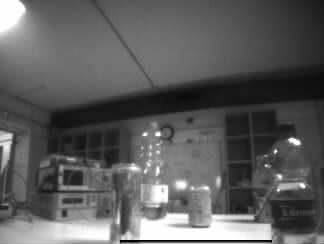Bottle: (272, 126, 316, 243), (140, 124, 169, 218), (253, 154, 271, 222)
Tin can: (111, 164, 141, 244), (188, 183, 211, 226)
